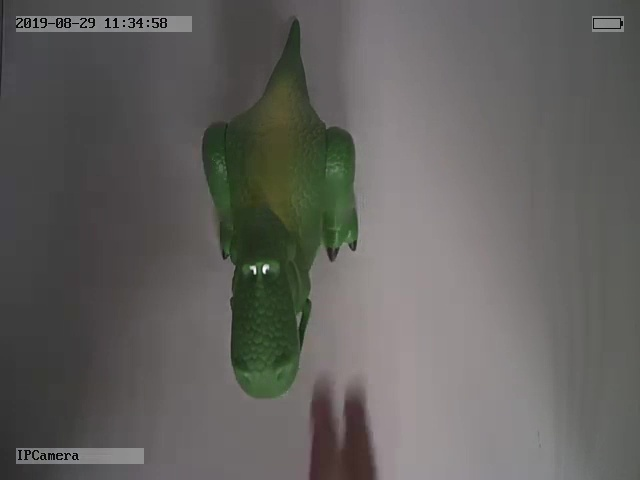rex: (198, 20, 358, 401)
